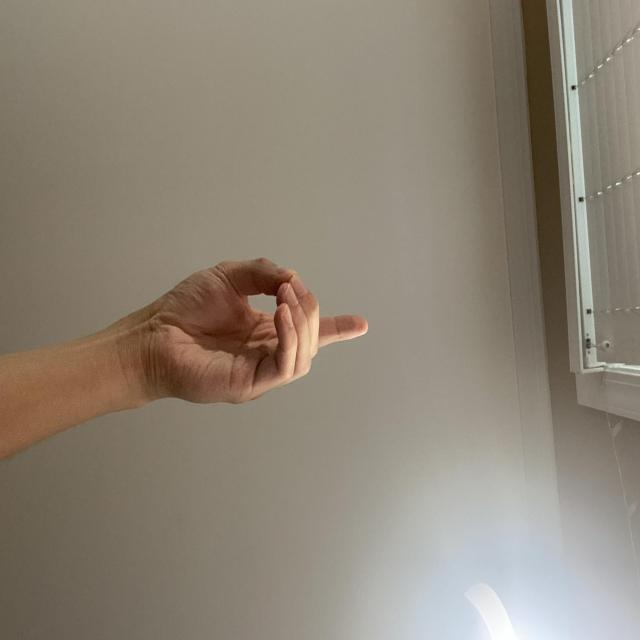D: (348, 350, 470, 640)
